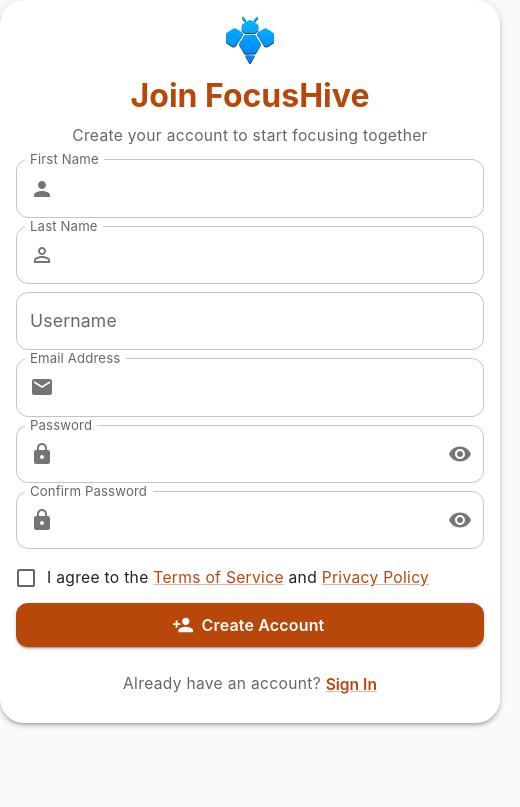
Test: RegisterForm › Form Validation › shows validation errors for empty fields on submit
This screenshot has width=520, height=807.
Click the button "Create Account" at (250, 625), box [16, 603, 484, 647]
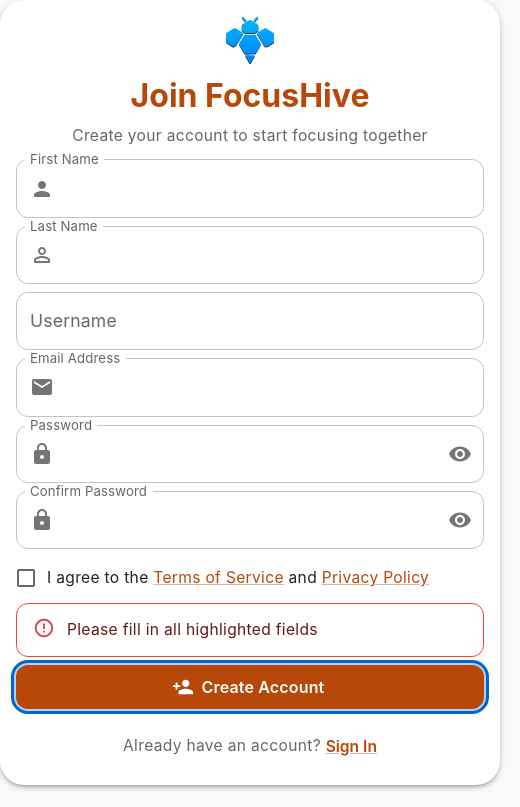
Check: the text "Please fill in all highlighted fields" is shown, box [67, 620, 318, 639]
